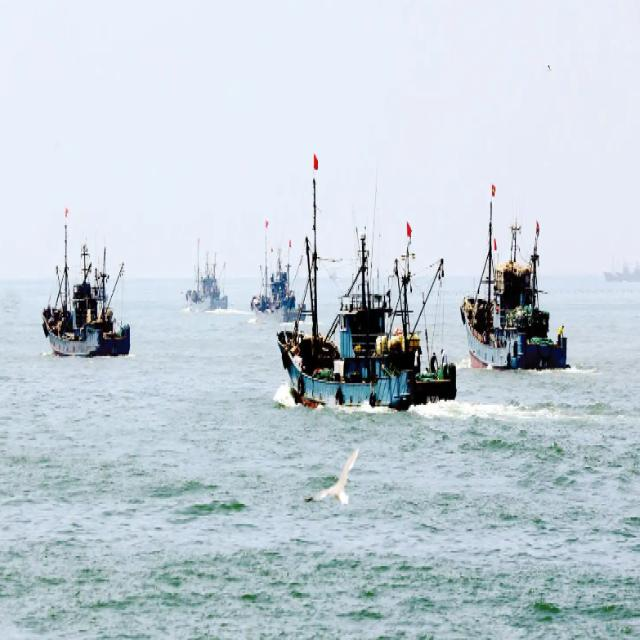fishing boat: (276, 264, 454, 418), (462, 194, 572, 378), (42, 221, 132, 358), (252, 219, 308, 329), (186, 241, 228, 315)
